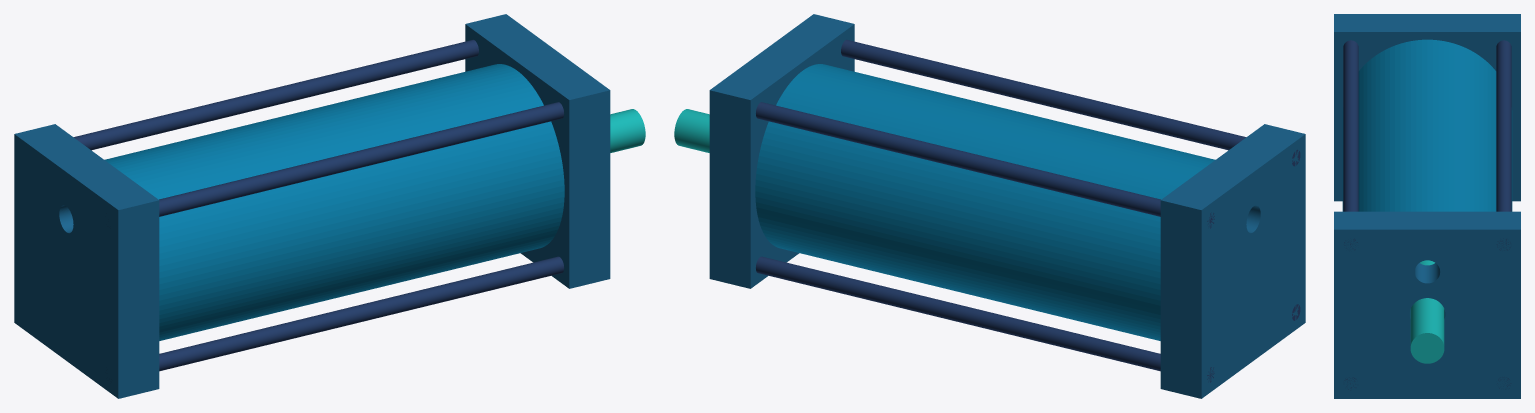
File: pneumatic-cylinder-v3.glb
3 renders of one model, left to right at view 1: azimuth 30°, elevation 25°; view 2: azimuth 150°, elevation 25°; view 3: azimuth 270°, elevation 25°, orthographic. The views are drawn at different scales.
Parts seen in each view (by area): view 1: Tube_transparent, Flasque_arriere_passage_capteur_6mm, Flasque_avant_passage_capteur_6mm, Tirant_4, Tirant_2, Tirant_3, Tige; view 2: Tube_transparent, Flasque_arriere_passage_capteur_6mm, Flasque_avant_passage_capteur_6mm, Tirant_3, Tirant_1, Tirant_4, Tige; view 3: Flasque_avant_passage_capteur_6mm, Tube_transparent, Flasque_arriere_passage_capteur_6mm, Tirant_3, Tirant_4, Tige.
Part boxes in pixels (x1,y1,x2,y2): Tube_transparent: (104, 64, 564, 340); Flasque_arriere_passage_capteur_6mm: (14, 124, 159, 398); Flasque_avant_passage_capteur_6mm: (465, 14, 610, 288); Tirant_4: (106, 102, 563, 228); Tirant_2: (106, 256, 563, 379); Tirant_3: (73, 39, 478, 150); Tige: (610, 109, 645, 152); Tube_transparent: (755, 64, 1215, 340); Flasque_arriere_passage_capteur_6mm: (1160, 124, 1305, 398); Flasque_avant_passage_capteur_6mm: (709, 14, 854, 288); Tirant_3: (756, 102, 1214, 228); Tirant_1: (756, 256, 1214, 382); Tirant_4: (841, 39, 1300, 166); Tige: (674, 109, 709, 152); Flasque_avant_passage_capteur_6mm: (1334, 211, 1520, 398); Tube_transparent: (1342, 39, 1512, 211); Flasque_arriere_passage_capteur_6mm: (1334, 14, 1520, 201); Tirant_3: (1496, 40, 1511, 250); Tirant_4: (1343, 40, 1358, 250); Tige: (1410, 260, 1444, 363).
Size of the model in its own units: 0.139 by 0.044 by 0.044.
